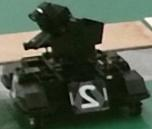front_2: (75, 82, 104, 112)
